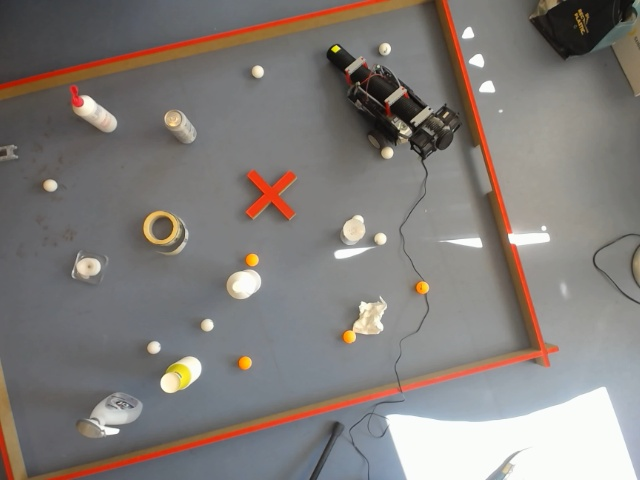orange: (237, 355, 253, 371), (244, 252, 260, 268), (415, 280, 430, 296), (342, 329, 356, 345)
robot: (325, 45, 471, 158)
white: (2, 6, 355, 232), (78, 391, 145, 435), (159, 356, 203, 394), (225, 269, 263, 302), (159, 362, 194, 395), (177, 356, 203, 386), (159, 367, 186, 395), (342, 215, 366, 244), (248, 63, 267, 82), (41, 178, 60, 195), (198, 317, 216, 334), (145, 339, 162, 356), (373, 232, 388, 246)
